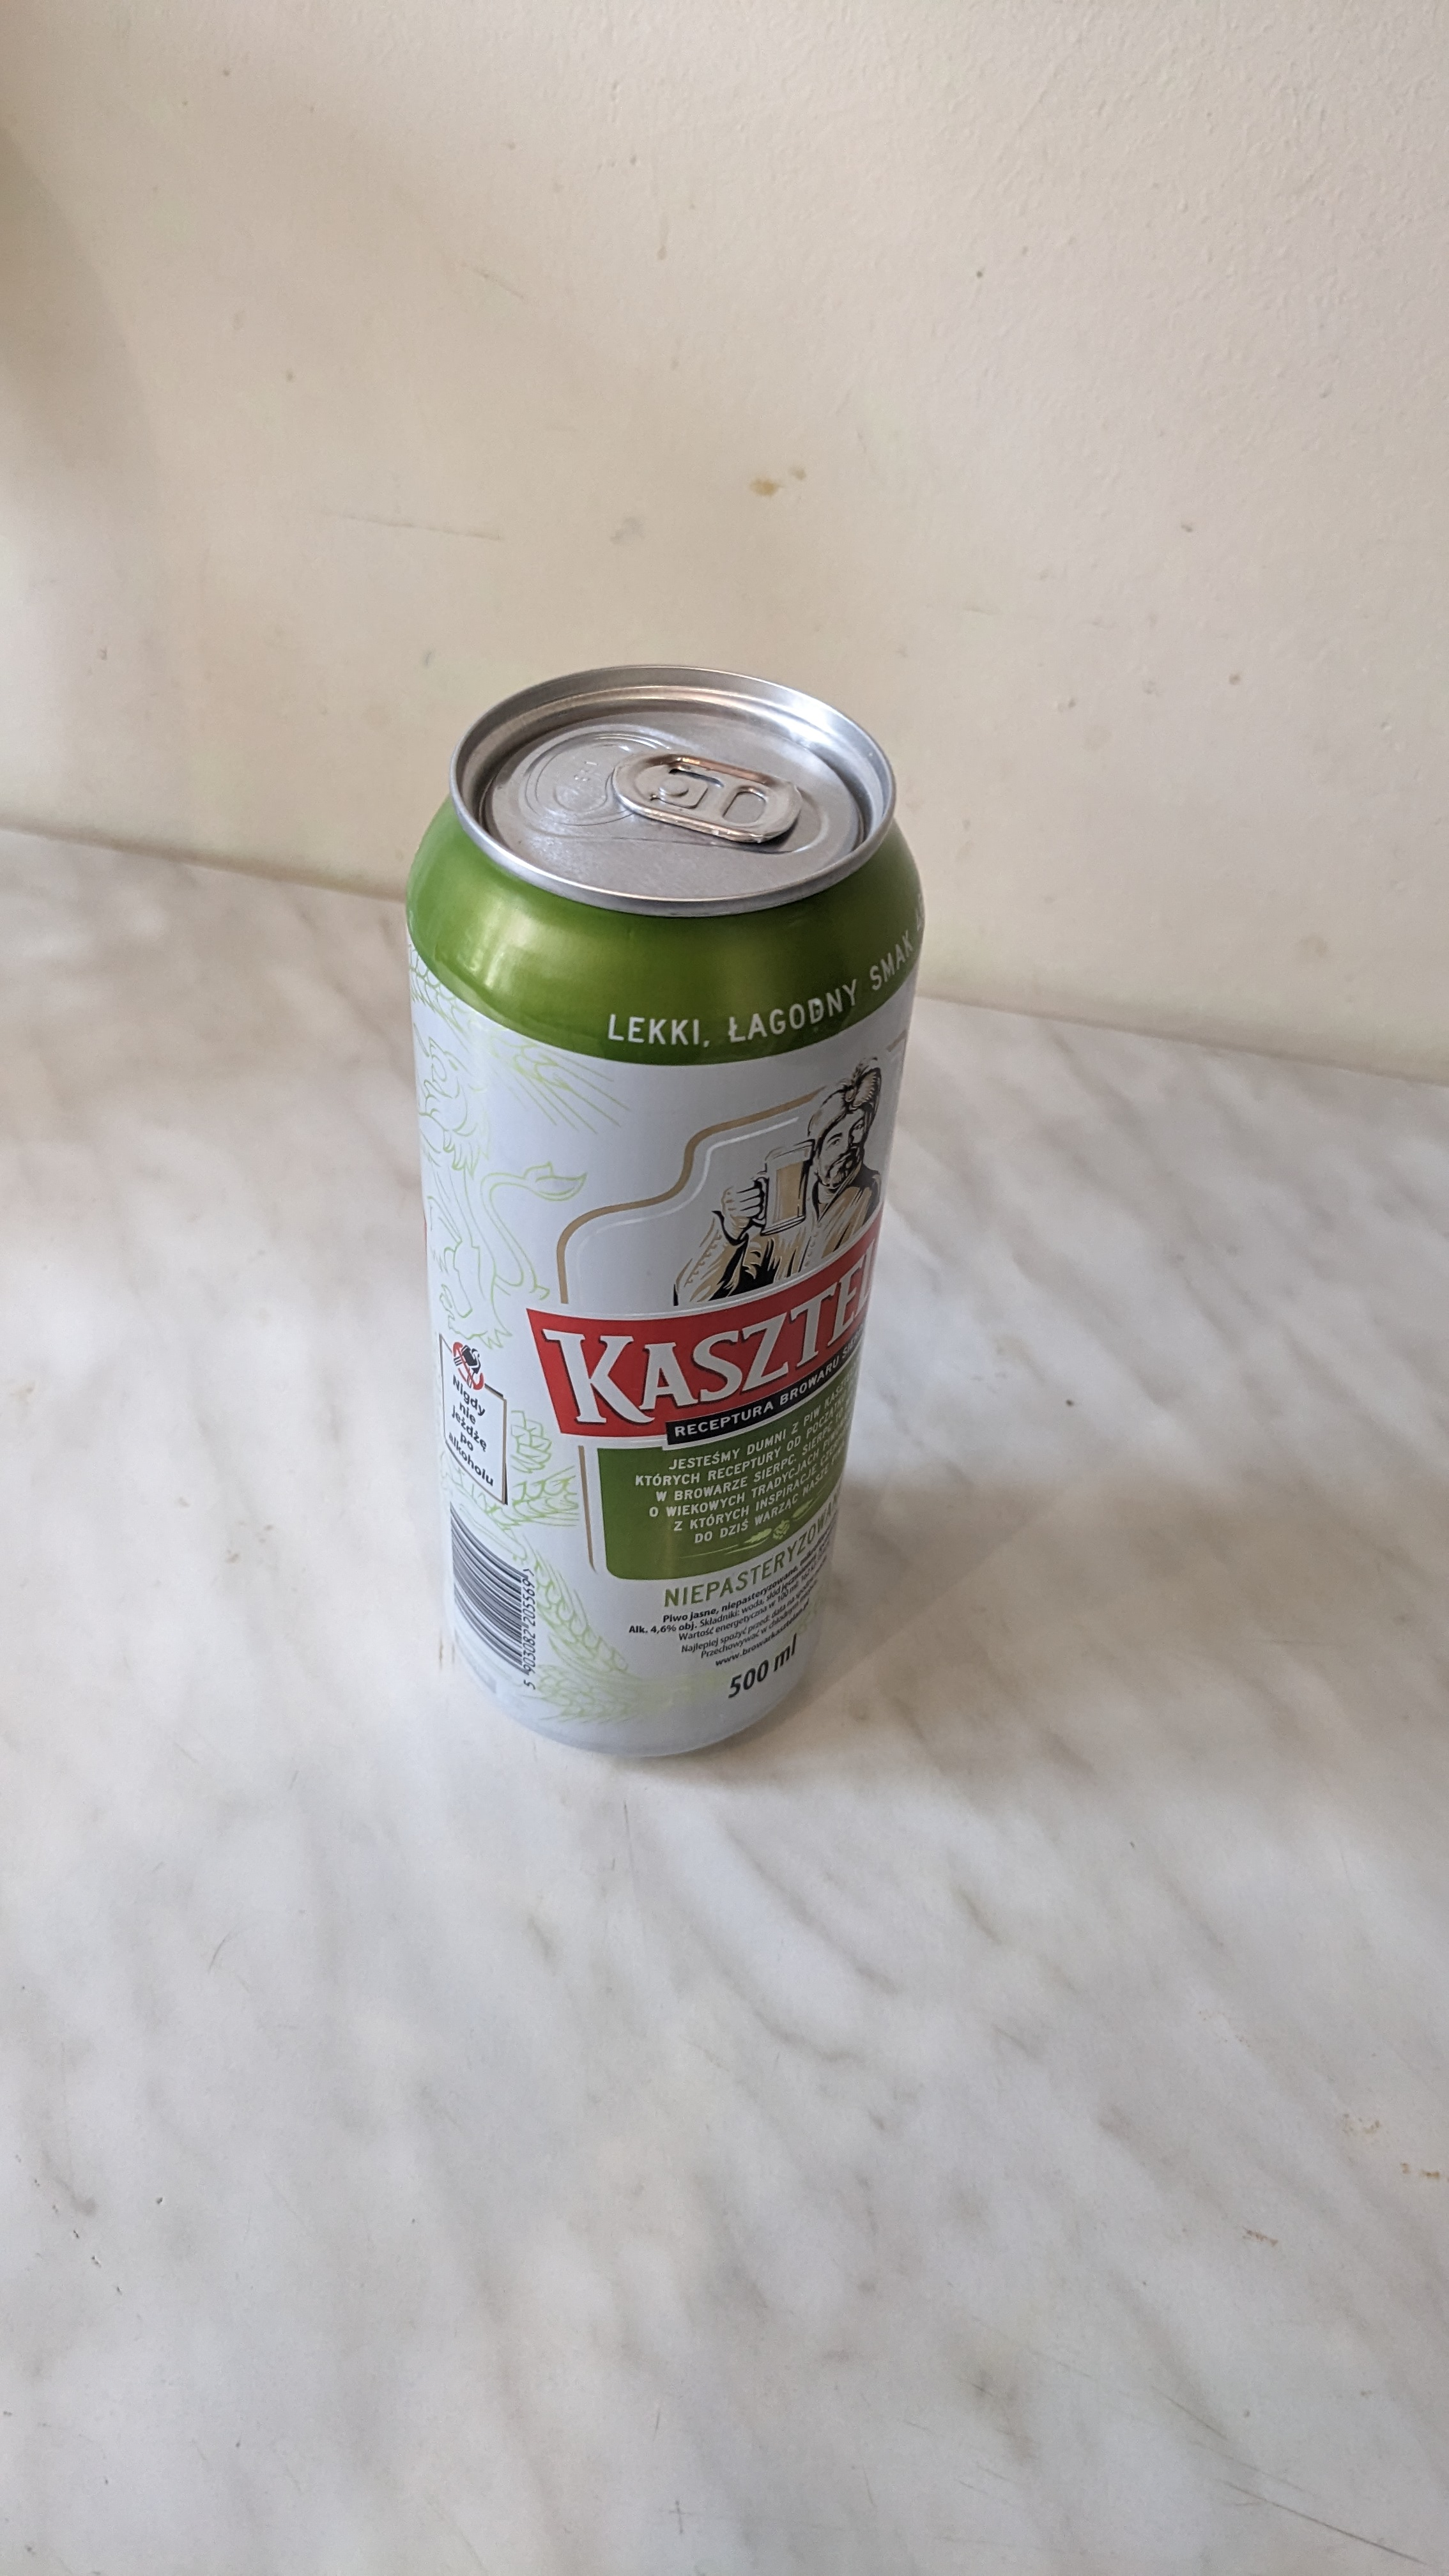kasztelan: (405, 660, 922, 1796)
